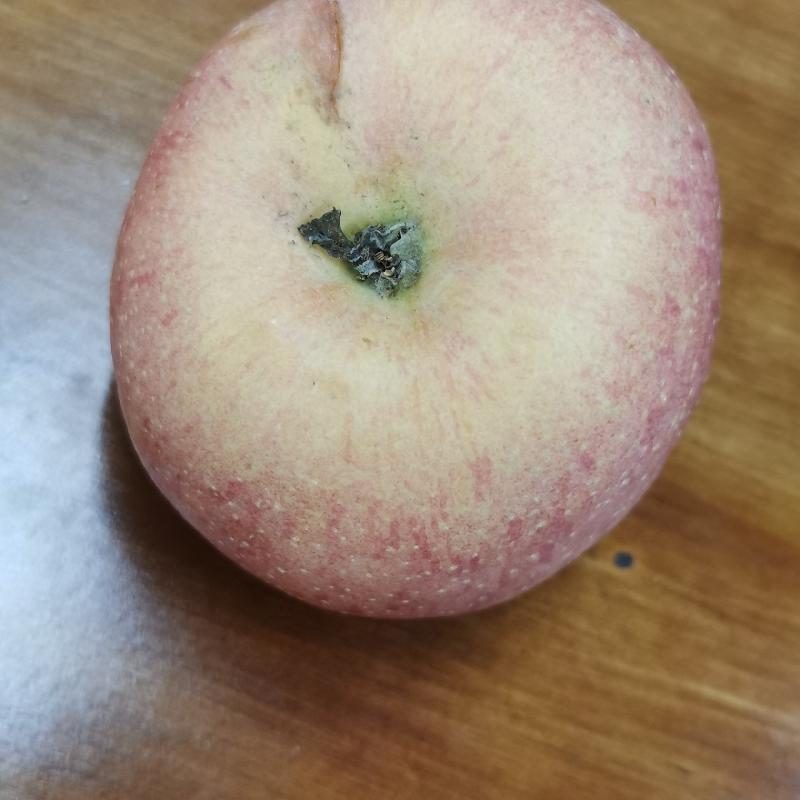apples: (116, 4, 729, 628)
